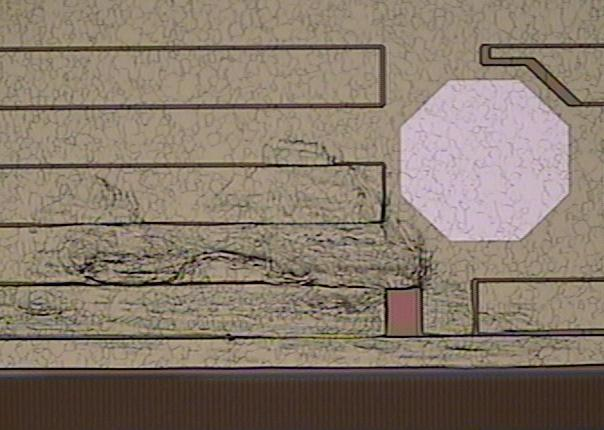SCRATCH: (1, 136, 602, 371)
